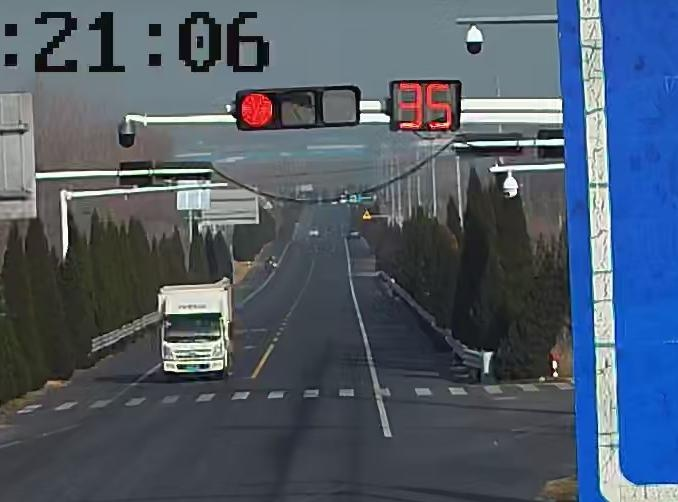red: (239, 92, 276, 129)
redtime: (395, 80, 456, 132)
